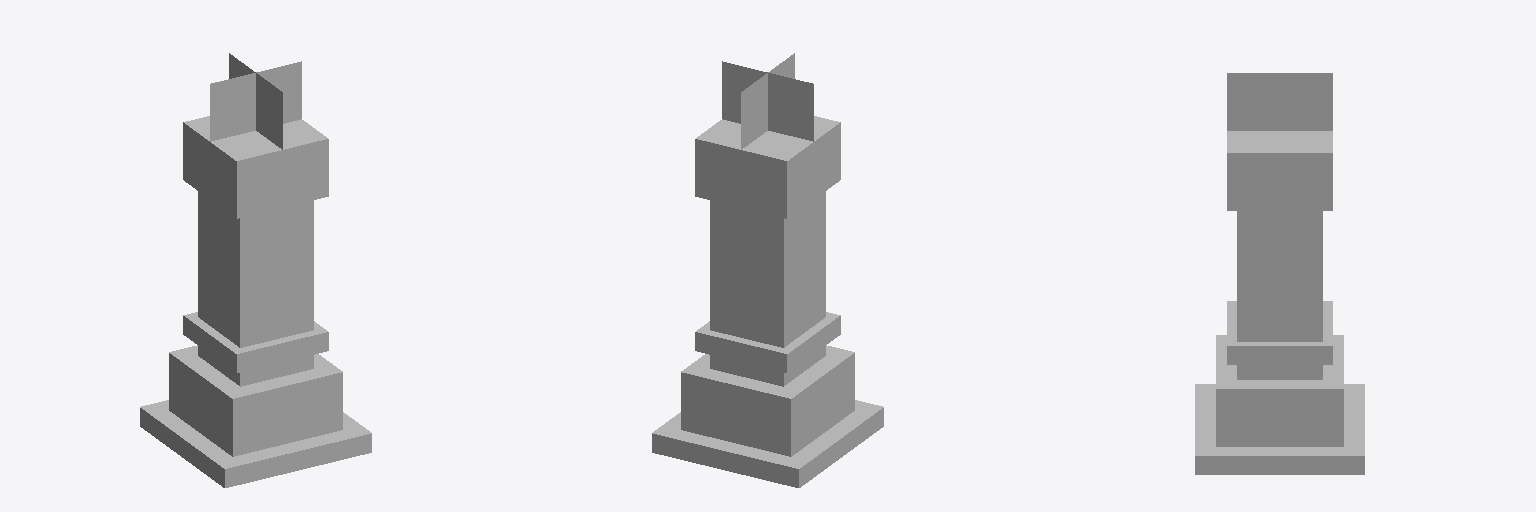
The model's file is queen.obj.
The picture shows the model from 3 angles: view 1: azimuth 30°, elevation 25°; view 2: azimuth 150°, elevation 25°; view 3: azimuth 270°, elevation 25°; orthographic projection.
Visible parts, largest first — view 1: cube, cube.003, cube.002, cube.004, cube.005, cube.001, cube.006; view 2: cube, cube.003, cube.002, cube.004, cube.005, cube.001, cube.006; view 3: cube, cube.003, cube.002, cube.004, cube.006, cube.001.
Part boxes in pixels (x1,y1,x2,y2): cube: (198,191,313,386); cube.003: (169,345,342,456); cube.002: (183,116,328,218); cube.004: (140,400,371,487); cube.005: (210,61,301,141); cube.001: (183,312,328,373); cube.006: (229,53,282,149); cube: (710,191,825,386); cube.003: (681,345,854,456); cube.002: (695,116,840,218); cube.004: (652,400,883,487); cube.005: (722,61,813,141); cube.001: (695,312,840,373); cube.006: (741,53,794,149); cube: (1237,211,1322,379); cube.003: (1216,335,1343,446); cube.002: (1227,131,1332,210); cube.004: (1195,384,1364,474); cube.006: (1227,73,1332,130); cube.001: (1227,301,1332,364).
Bounding box in the file's own units: 0.5 × 1.19 × 0.5.